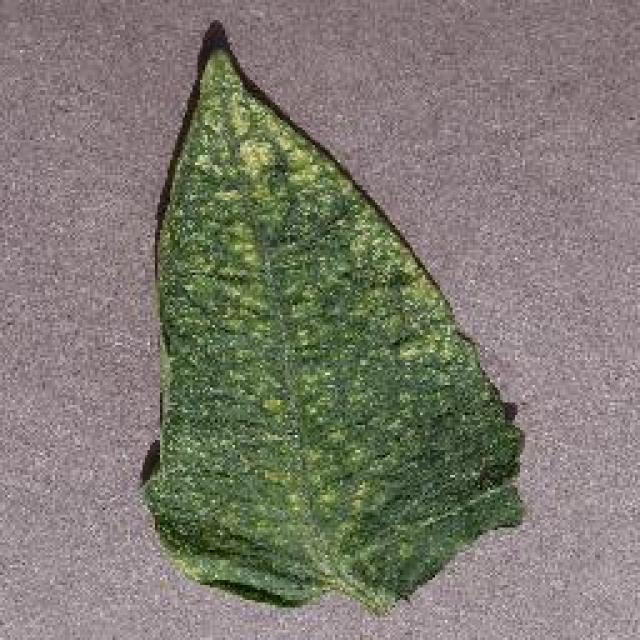Tomato spider mites leaf: (145, 36, 527, 616)
